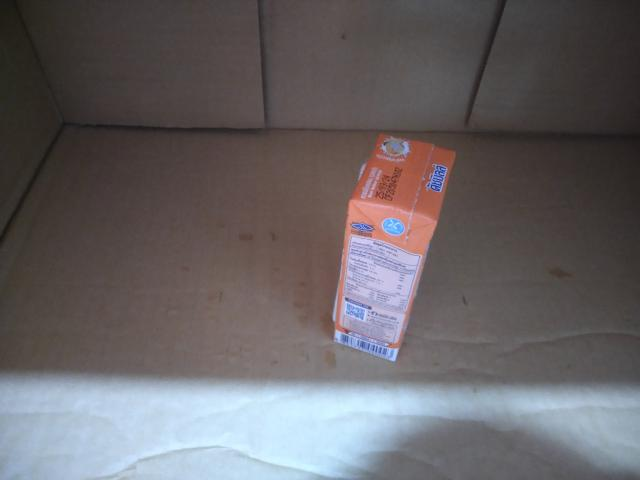drink_box: (322, 117, 480, 367)
